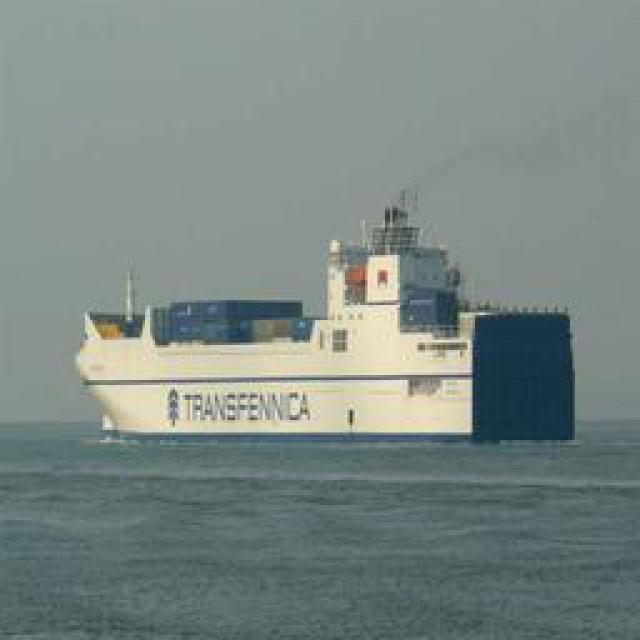Ship: (88, 185, 473, 440)
